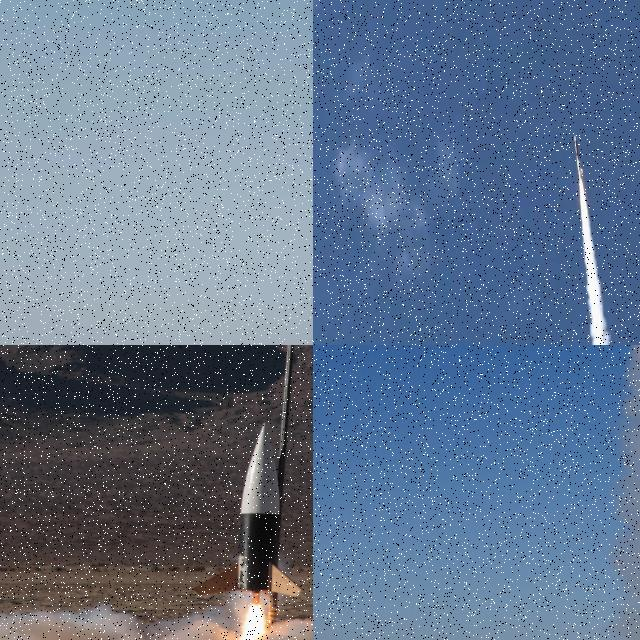Rocket: (191, 420, 303, 603), (574, 136, 583, 178)
